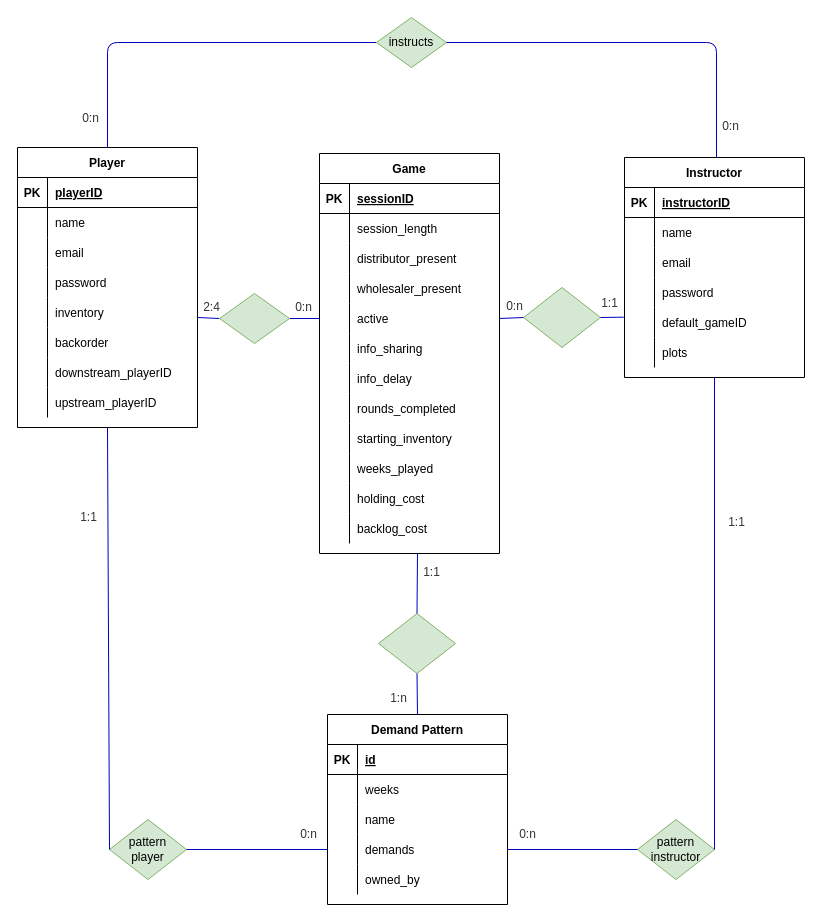
Some shapes in this 822 by 922 pixel diagram are drawn without their labels. Here are the shapes that lost their labels. From the top down, the centre of each, then its label:
At point 254,318: "plays_in".
At point 561,317: "created".
At point 417,643: "pattern".
